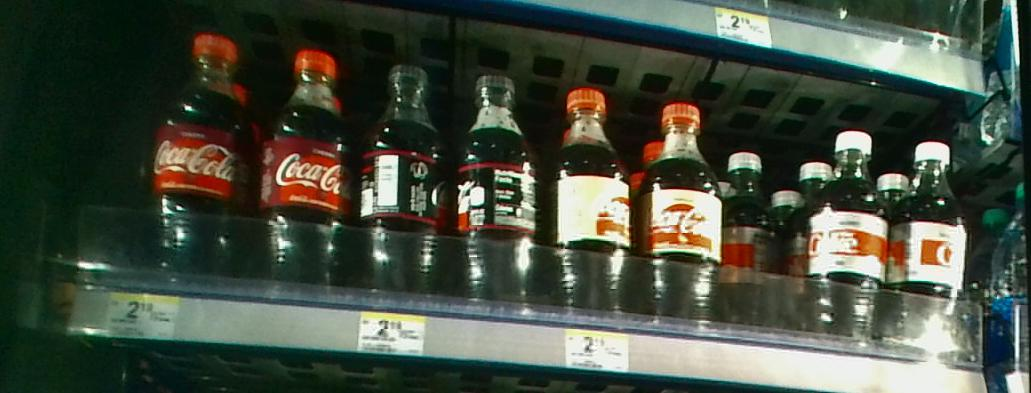bottle: (145, 22, 248, 295), (347, 55, 451, 302), (250, 34, 346, 296), (451, 68, 554, 309), (634, 85, 724, 326), (556, 85, 634, 317), (808, 125, 890, 339), (894, 133, 970, 352), (726, 136, 791, 332)
